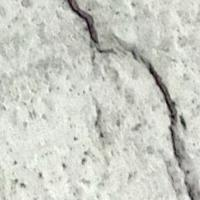crack: (66, 0, 193, 189)
